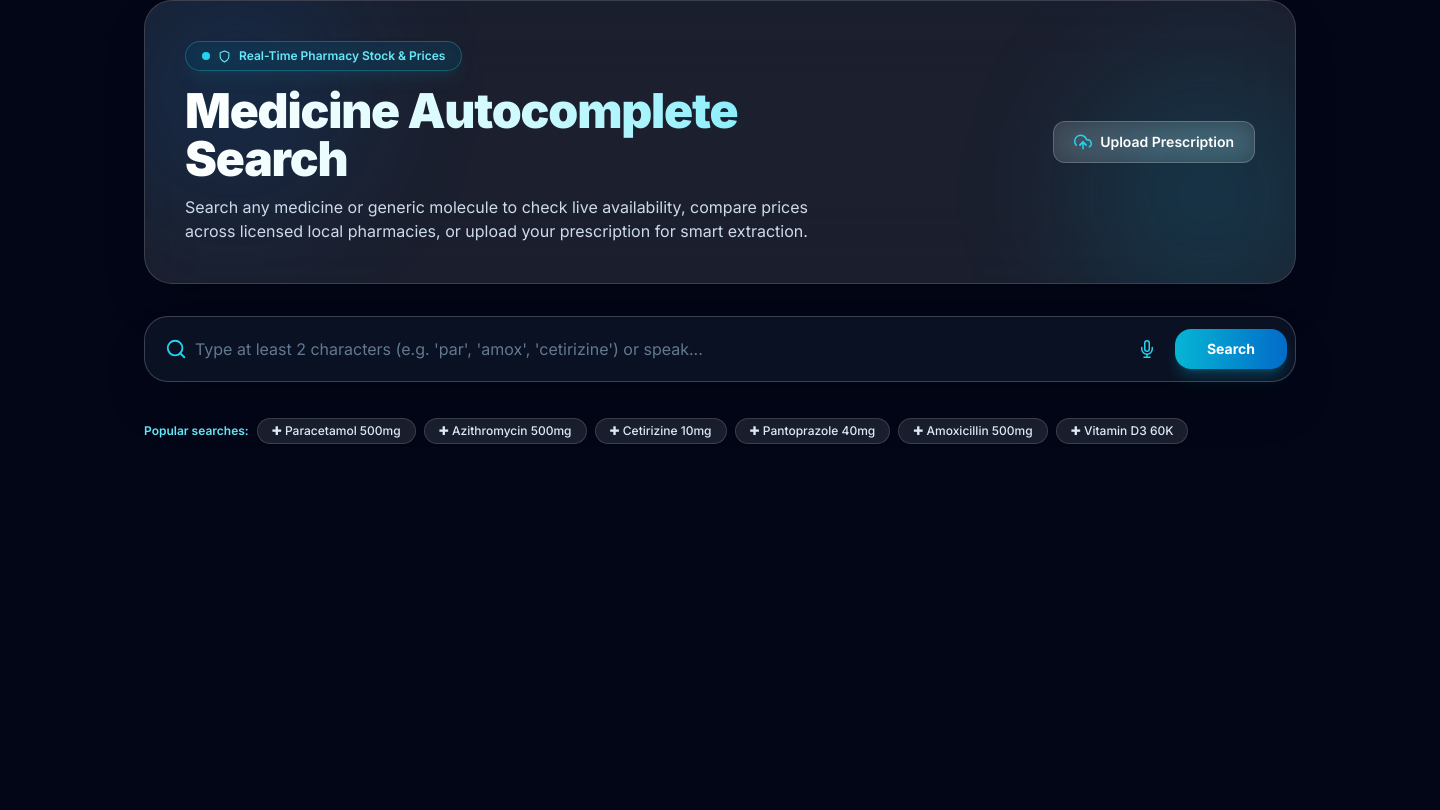
Test: MedicineSearch Component › opens prescription upload modal with privacy notice when Upload Prescription clicked
Click the button "Upload Prescription" at [1154, 142], box [1053,121,1255,163]
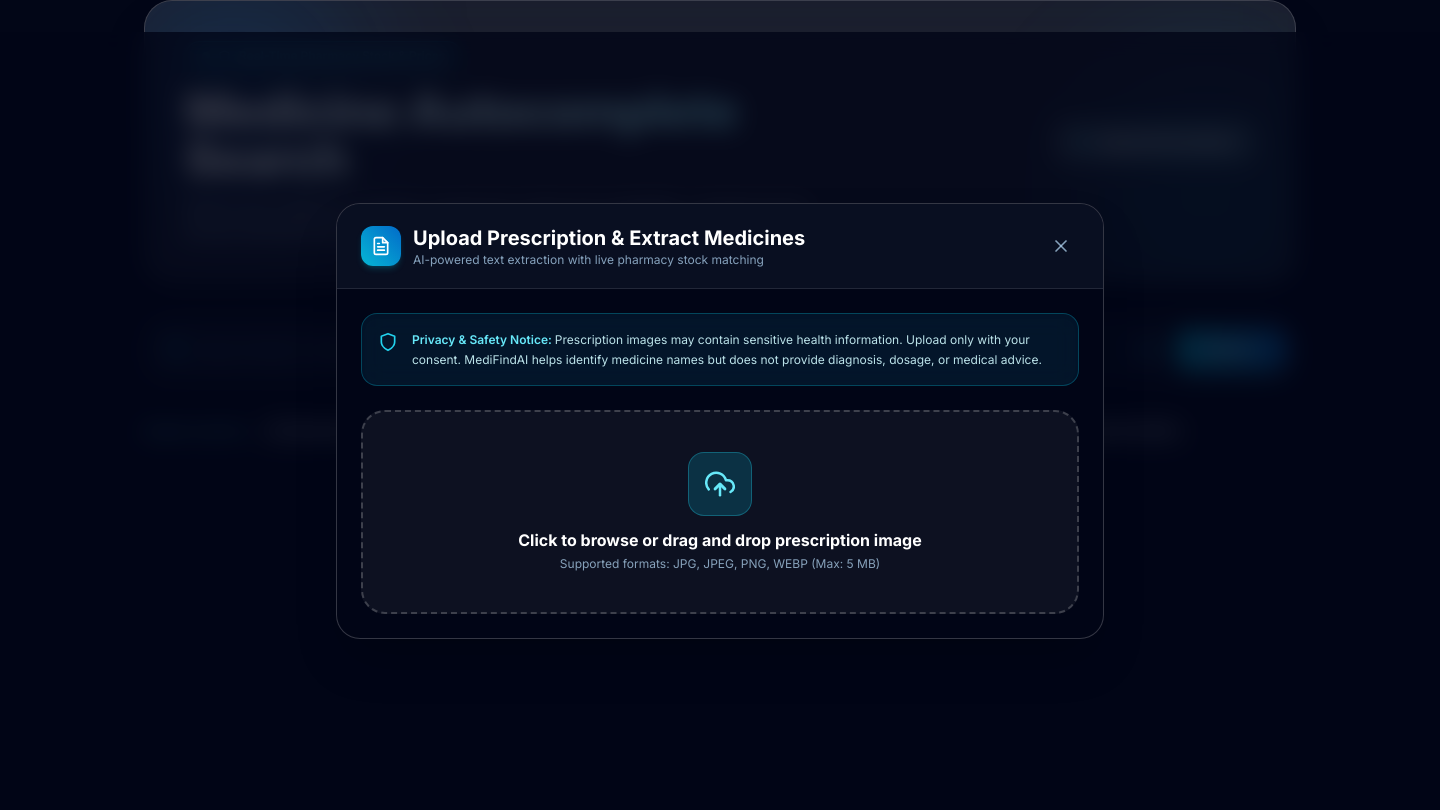
Result: the heading "Upload Prescription & Extract Medicines" is shown at [413,224,805,252]
Result: the text "Prescription images may contain sensitive health information" is shown at [412,332,1042,366]
